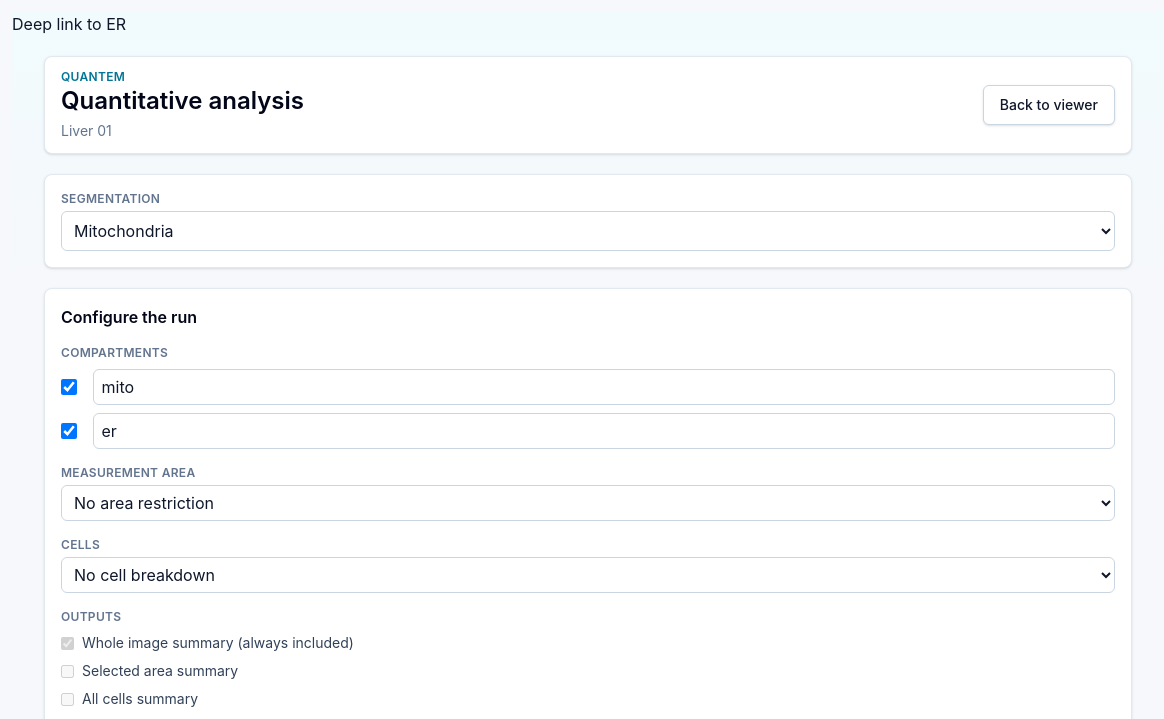
Test: AnalysisScreen › follows a ?seg= deep link on SPA navigation, not only on full page load
This screenshot has width=1164, height=719.
Expected: the dropdown labelled "Segmentation" shows "Mitochondria", [61,211,1115,251]
Click the link "Deep link to ER". click: (69, 24)
box: [12,14,126,34]
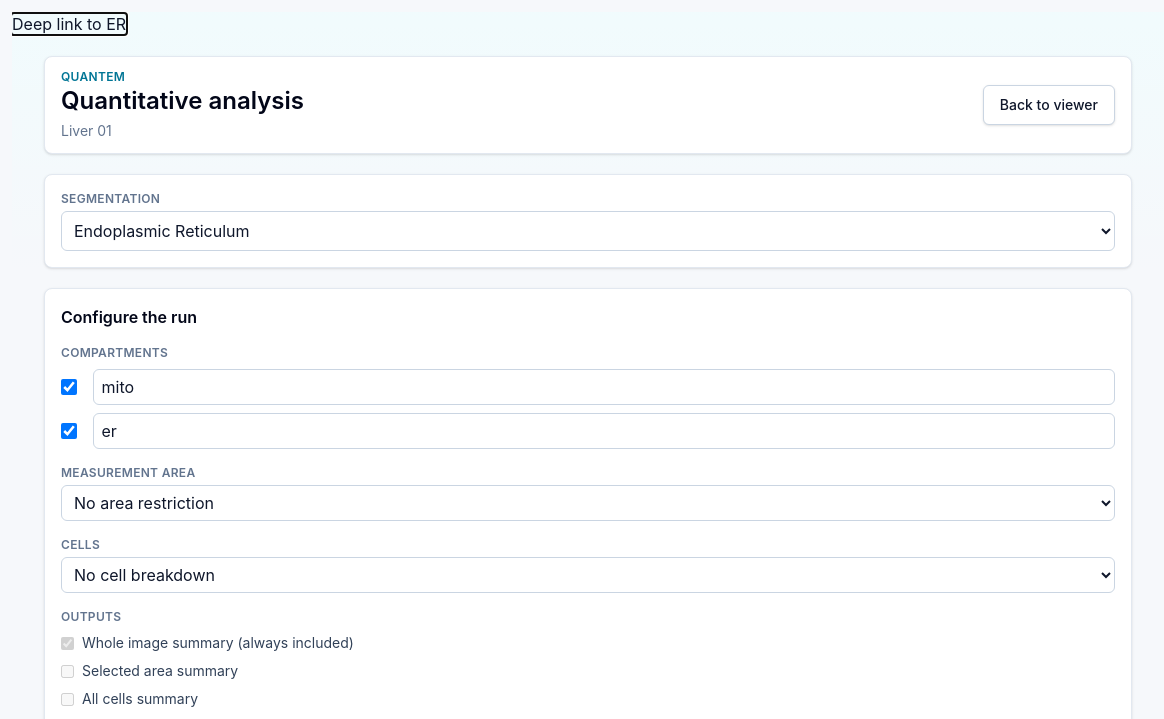
Expected: the dropdown labelled "Segmentation" shows "Endoplasmic Reticulum", [61,211,1115,251]
